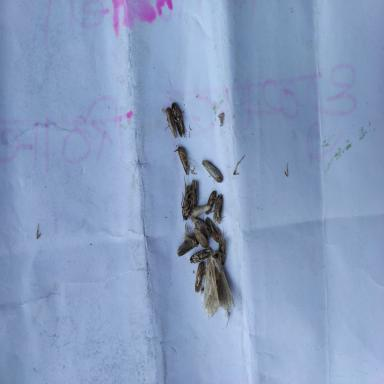pbw: (173, 146, 196, 175), (160, 105, 178, 138), (201, 160, 223, 183), (172, 101, 186, 137), (180, 177, 191, 221), (191, 216, 210, 238), (189, 246, 212, 264), (218, 225, 227, 266), (193, 226, 208, 248), (206, 216, 218, 242), (190, 204, 212, 218), (214, 192, 224, 222), (206, 191, 218, 216), (194, 263, 204, 293), (190, 179, 198, 207)
